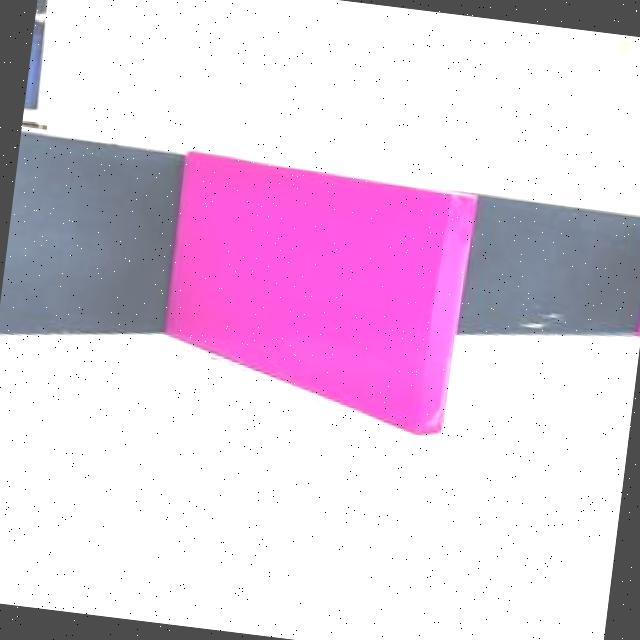xparking: (161, 154, 474, 388)
